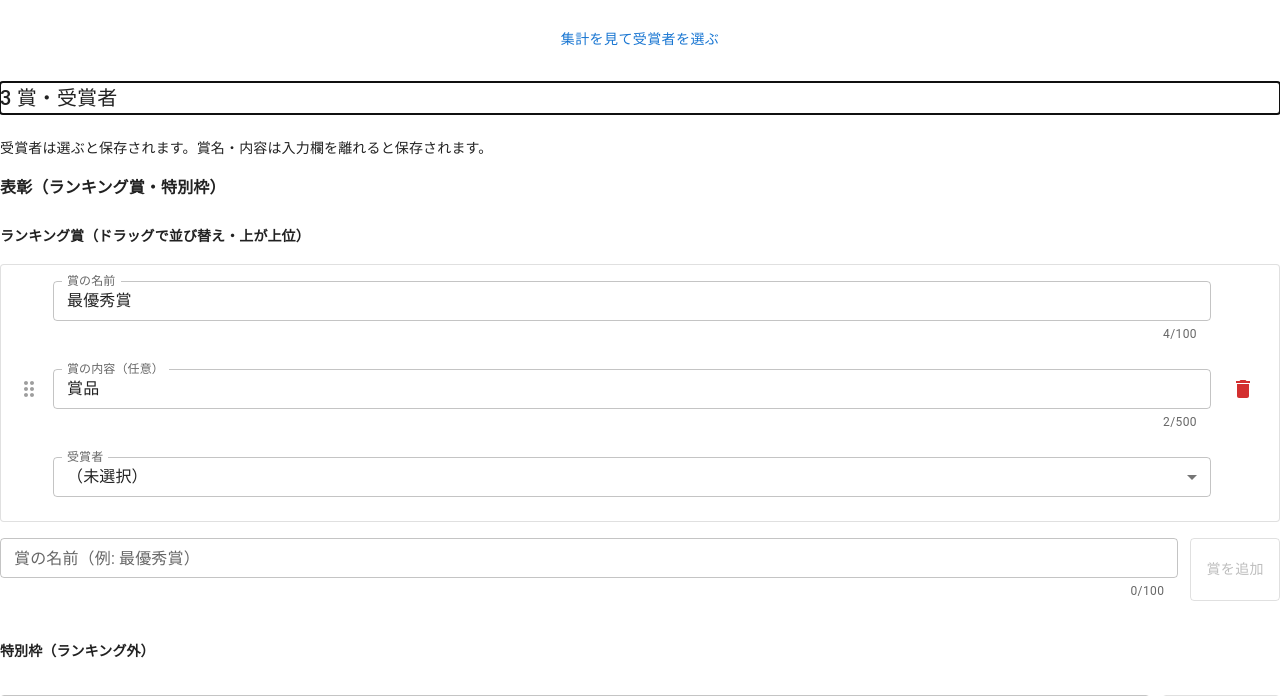
it: ordinary blur → ceremony click is guarded in normal mode
(page scrolled)
Step 1. Replace the text in the field labelled "賞の名前" with "新しい名前" → (632, 301), box x1=53 y1=281 x2=1211 y2=321
(page scrolled)
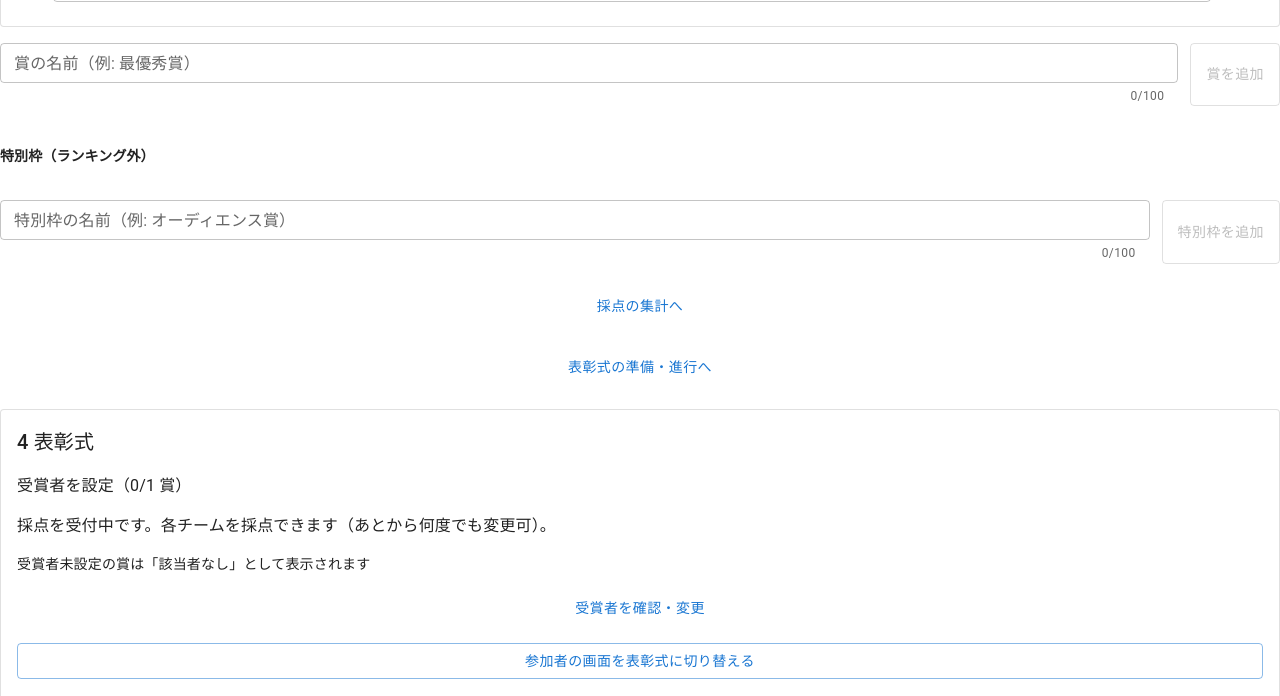
Step 2. Click the button "参加者の画面を表彰式に切り替える" → (640, 661), box x1=17 y1=643 x2=1263 y2=679
(page scrolled)
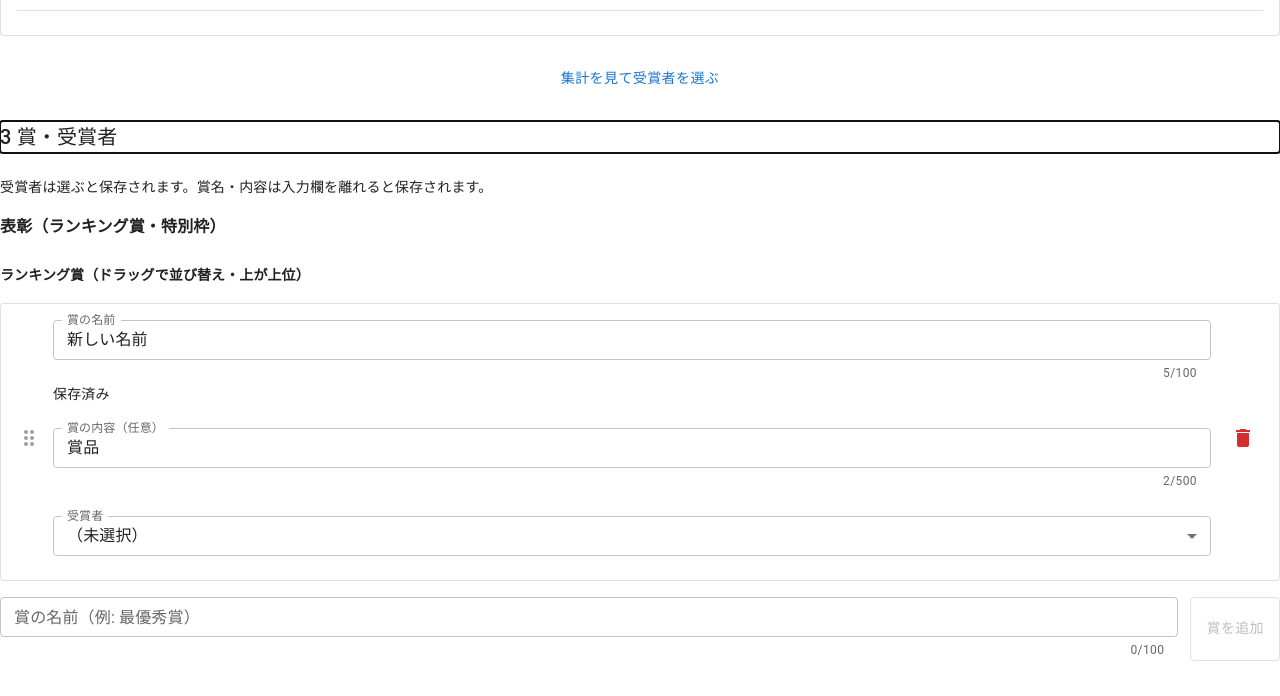
Check: the text "保存済み" is shown, box x1=53 y1=386 x2=110 y2=402
